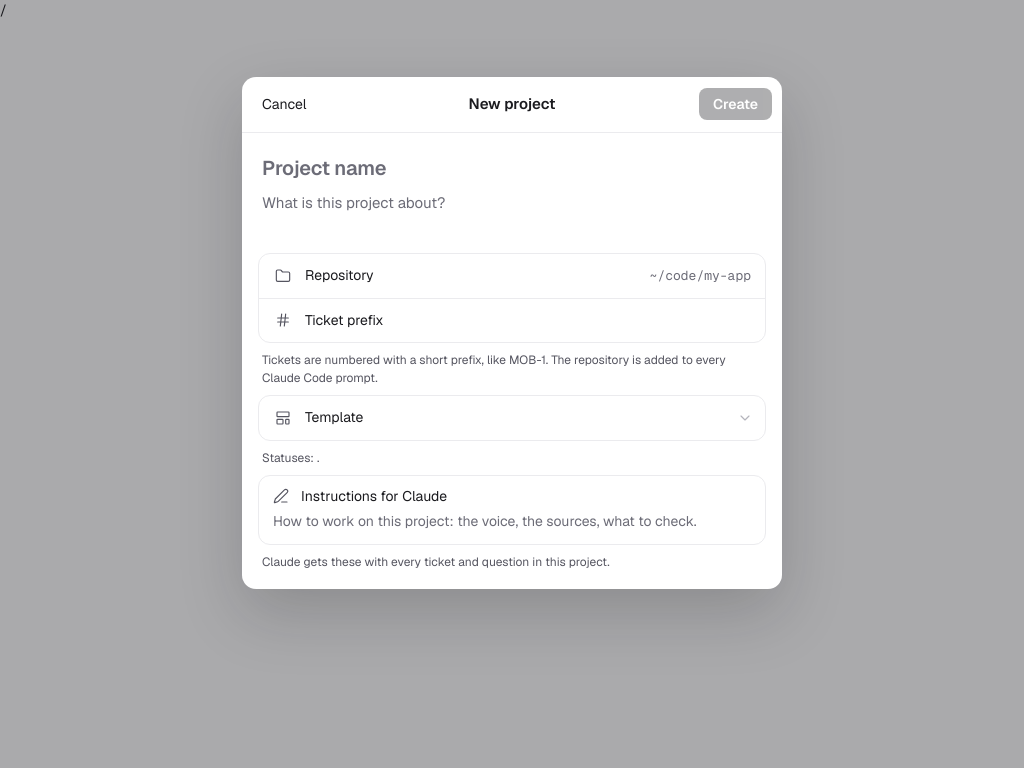
it: New project sheet › says why when Enter is pressed without a name, until the name changes
In the field named "Repository or folder": {"x": 568, "y": 276} [386,256,751,296], type "~/code/app"
Then press Enter
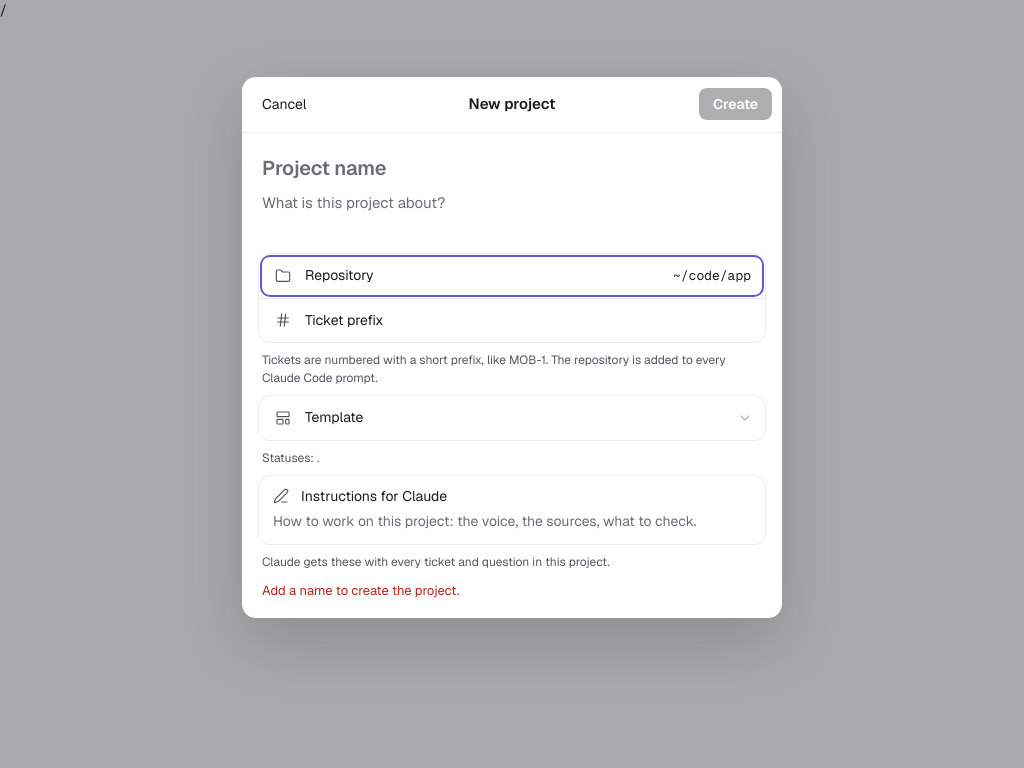
Result: the message reads "Add a name to create the project." at [262,582,459,599]
In the field labelled "Project name": {"x": 512, "y": 168} [262,151,762,185], type "A"
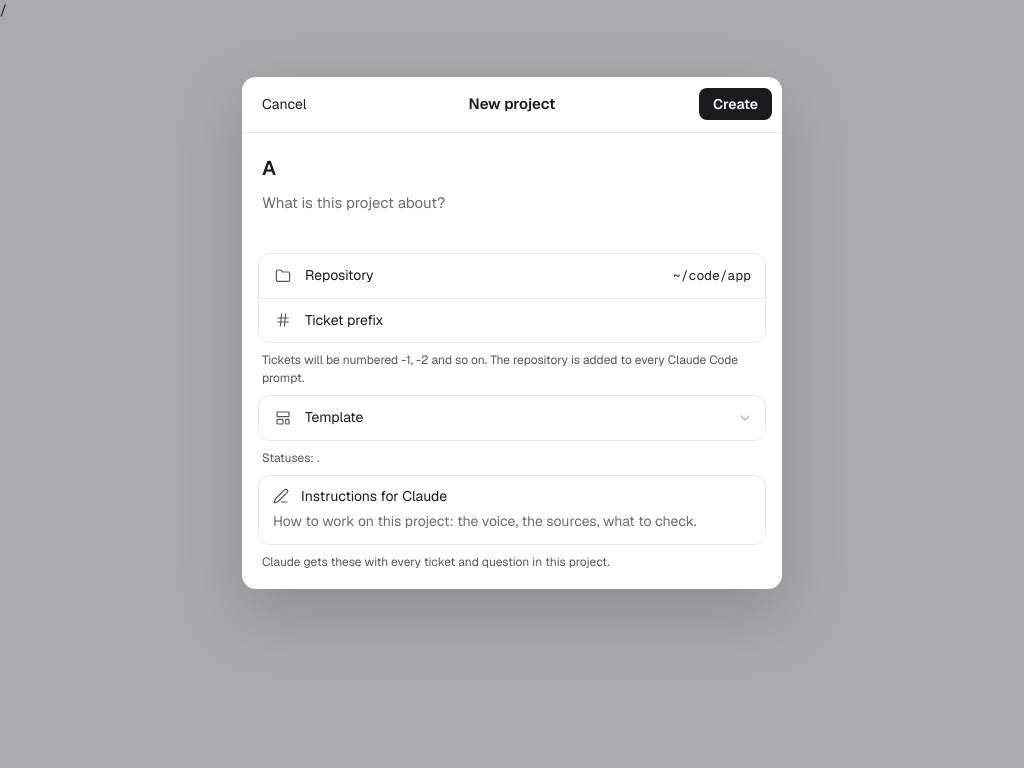
Result: the message "Add a name to create the project." is gone
